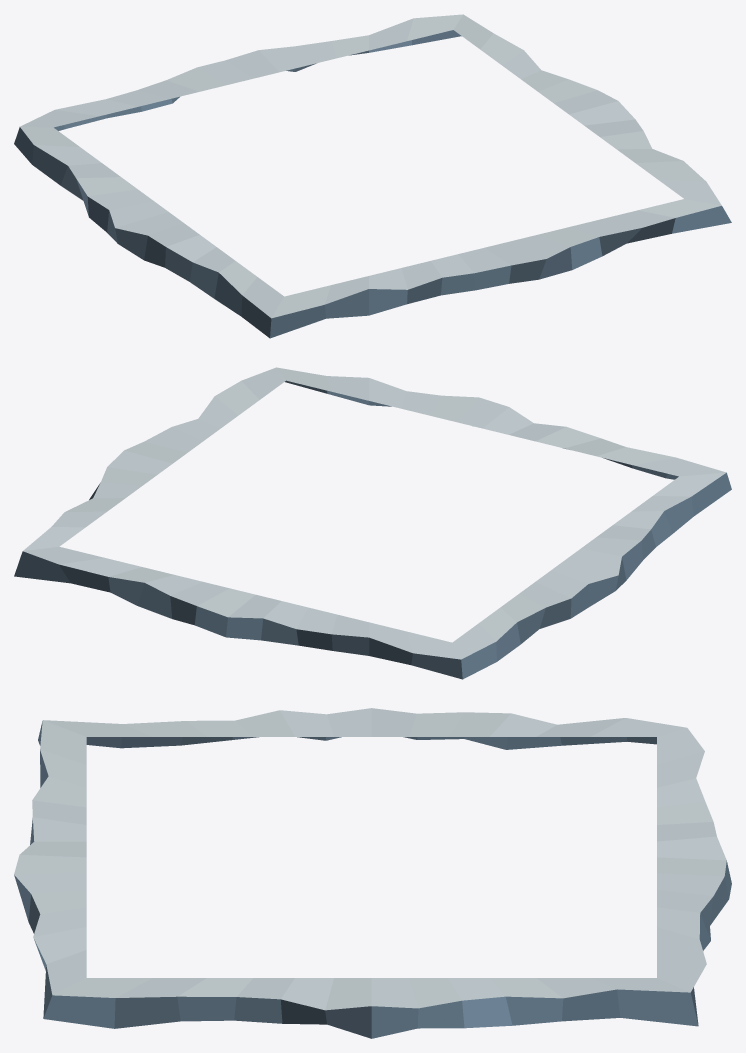
The model's file is entorno_16.glb.
The picture shows the model from 3 angles, top to bottom: view 1: azimuth 30°, elevation 25°; view 2: azimuth 150°, elevation 25°; view 3: azimuth 270°, elevation 25°; orthographic projection. The views are drawn at different scales.
Parts seen in each view (by area): view 1: neve_entorno_16; view 2: neve_entorno_16; view 3: neve_entorno_16.
Boxes of the visible parts, <box> form: neve_entorno_16: <box>14,14,731,338</box>; neve_entorno_16: <box>14,367,731,679</box>; neve_entorno_16: <box>14,708,731,1038</box>.
Bounding box in the file's own units: 20.59 × 1.07 × 20.39.
